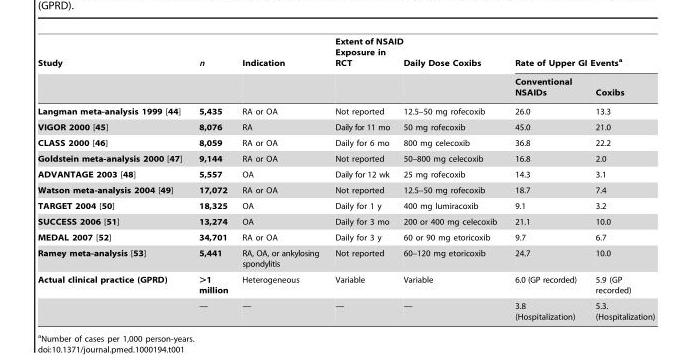table: (37, 36, 654, 320)
table column: (37, 36, 189, 320), (402, 36, 505, 320), (234, 36, 326, 320), (505, 36, 585, 320), (326, 36, 402, 320), (585, 36, 654, 320), (189, 36, 234, 320)
table column header: (37, 36, 654, 101)
table row: (37, 36, 654, 72), (37, 72, 654, 101), (37, 245, 654, 271), (37, 271, 654, 297), (37, 297, 654, 320), (37, 101, 654, 119), (37, 134, 654, 150), (37, 150, 654, 166), (37, 166, 654, 182), (37, 197, 654, 213), (37, 213, 654, 229), (37, 229, 654, 245), (37, 119, 654, 134), (37, 182, 654, 197)
table spanning cell: (37, 36, 189, 101), (37, 271, 189, 320), (402, 36, 505, 101), (234, 36, 326, 101), (505, 36, 654, 72), (326, 36, 402, 101), (189, 36, 234, 101)
